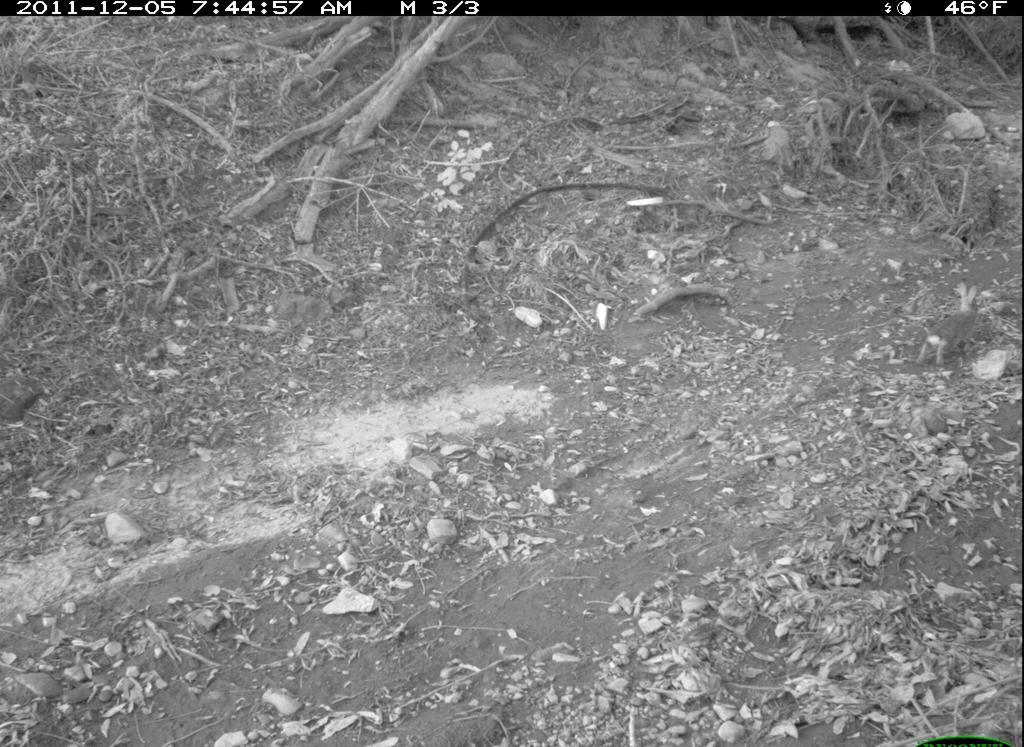rabbit: (905, 276, 995, 374)
